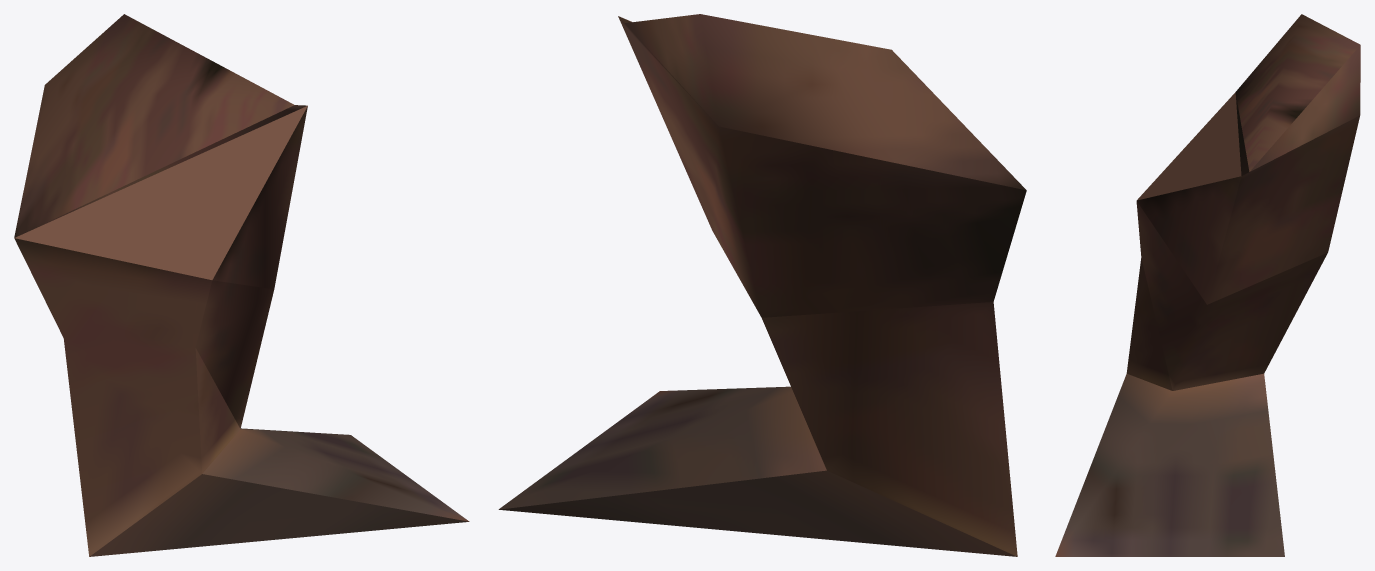
File: PiernaIzqMarlene.obj
The picture shows the model from 3 angles, left to right: view 1: azimuth 30°, elevation 25°; view 2: azimuth 150°, elevation 25°; view 3: azimuth 270°, elevation 25°; orthographic projection. The views are drawn at different scales.
Visible parts, largest first — view 1: PiernaIzqMarlene; view 2: PiernaIzqMarlene; view 3: PiernaIzqMarlene.
Part boxes in pixels (<box>): PiernaIzqMarlene: <box>14,14,469,556</box>; PiernaIzqMarlene: <box>498,14,1026,556</box>; PiernaIzqMarlene: <box>1055,14,1360,556</box>.
Bounding box in the file's own units: 2.6 × 3 × 1.96.
Materials: 1 (1 with a texture image).
